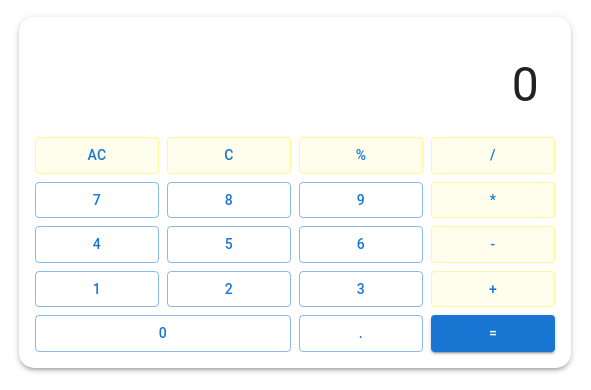
Test: Calculator App tests › Does addition correctly
Click the button "1" at coordinates (97, 289), box left=35, top=270, right=159, bottom=307
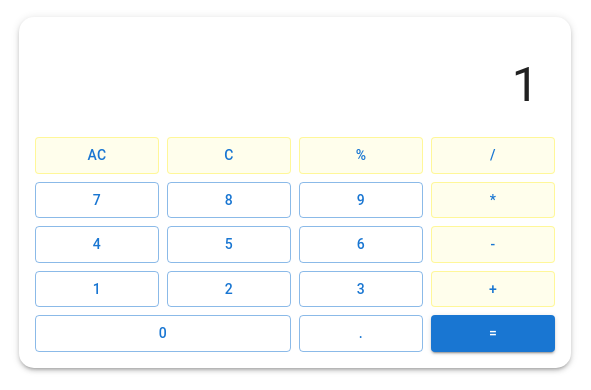
Click the button "0" at coordinates (163, 333), box left=35, top=315, right=291, bottom=352
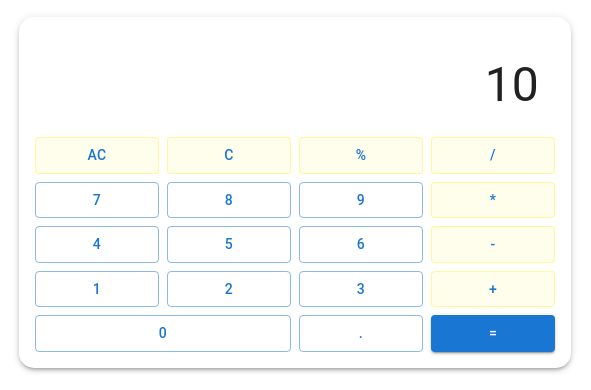
Click the button "+" at coordinates (493, 289), box left=431, top=270, right=555, bottom=307
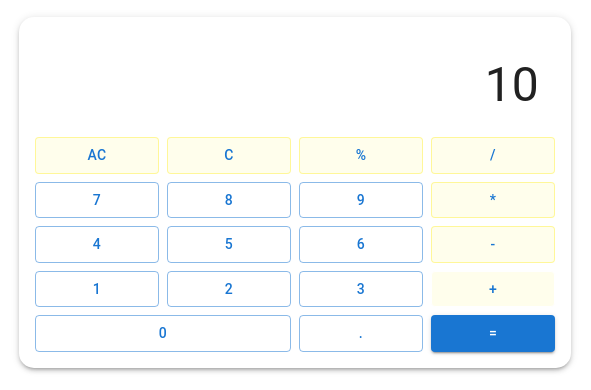
Click the button "5" at coordinates (229, 244), box left=167, top=226, right=291, bottom=262
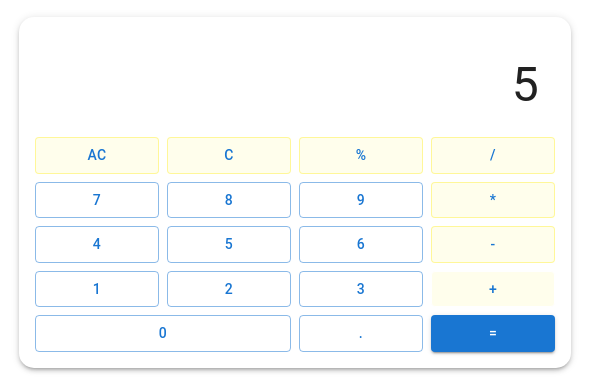
Click the button "=" at coordinates (493, 333), box left=431, top=315, right=555, bottom=352
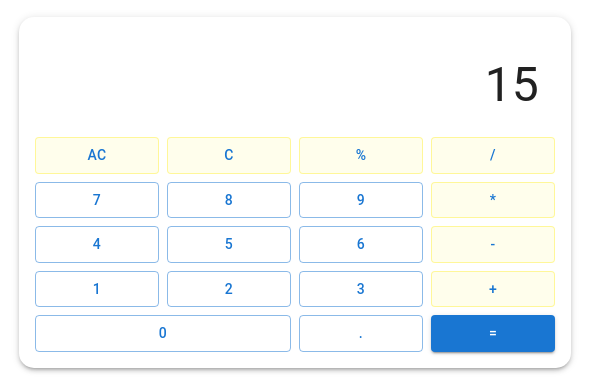
expect the text with test id "output" reads "15": met, box left=485, top=56, right=539, bottom=113
